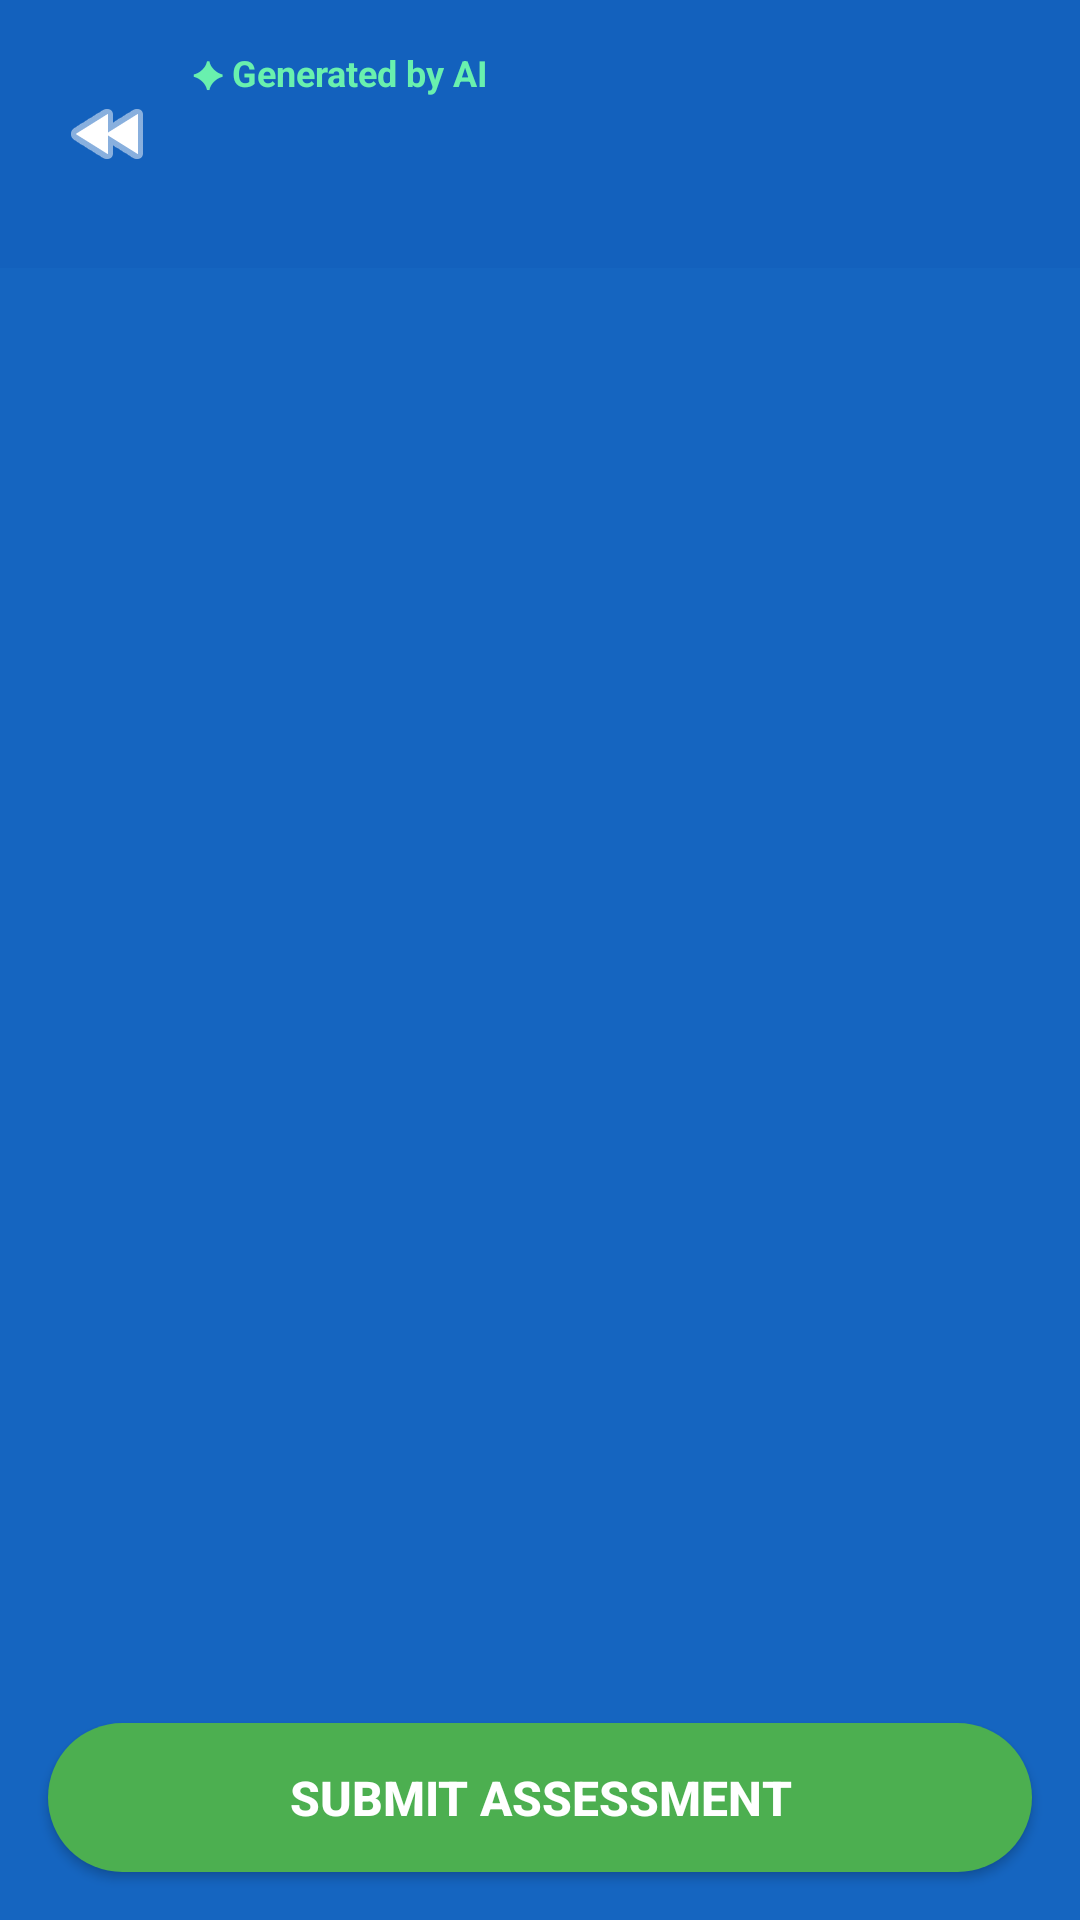

Icon bounding boxes for this 1080px x 1920px phone screenshot, format Rect(x1, y1, x2, y2):
Back to home: Rect(71, 109, 143, 159)
